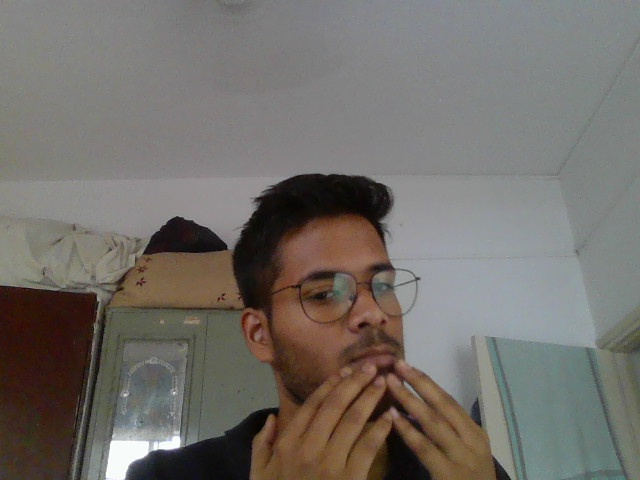thankyou: (245, 351, 506, 480)
